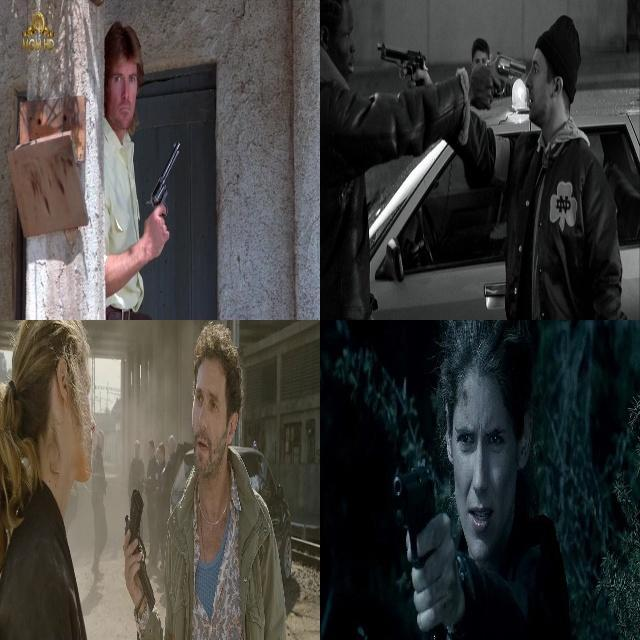gun-knife-thesis - v11 Yolov5 augmented: (391, 451, 447, 638), (371, 24, 432, 102), (121, 486, 156, 613), (142, 138, 180, 249), (476, 41, 528, 99)
